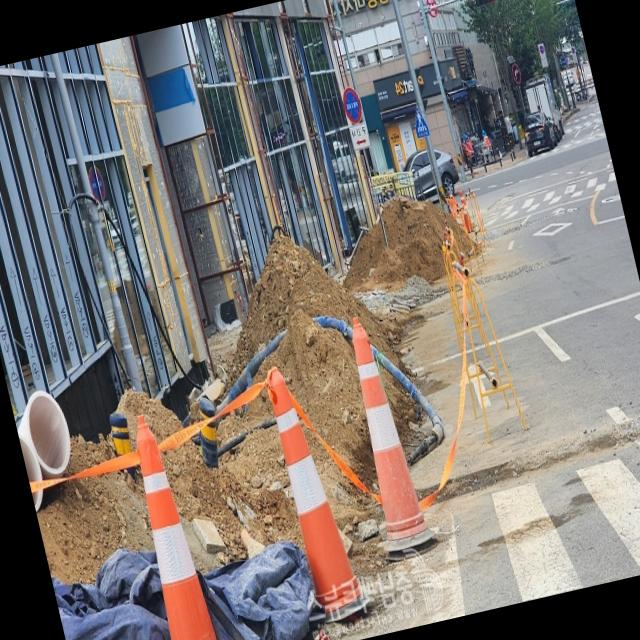asphalt: (331, 102, 640, 640), (410, 295, 462, 492), (477, 295, 503, 373), (468, 305, 496, 377)
white-sand: (227, 198, 470, 490), (163, 426, 303, 571), (36, 468, 152, 581), (302, 425, 376, 529), (383, 372, 426, 455), (120, 389, 181, 447), (68, 435, 115, 472)
